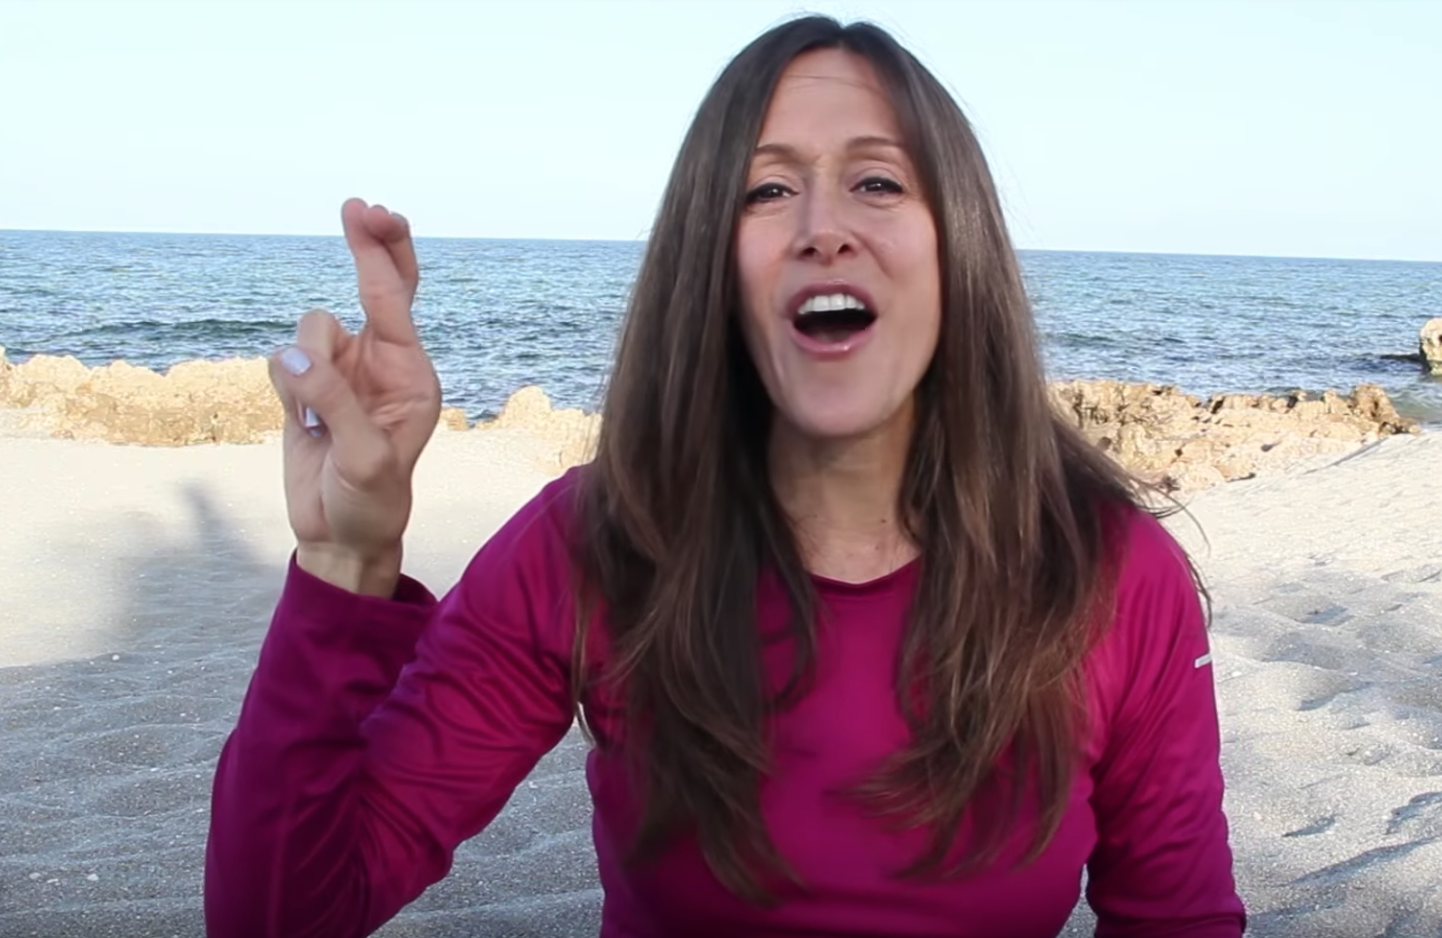r: (256, 184, 456, 638)
